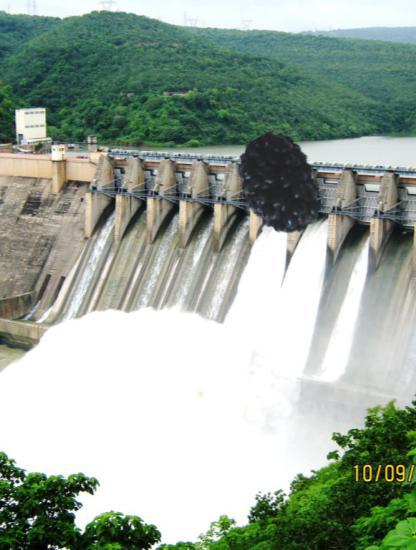Mulberry: (227, 133, 333, 239)
